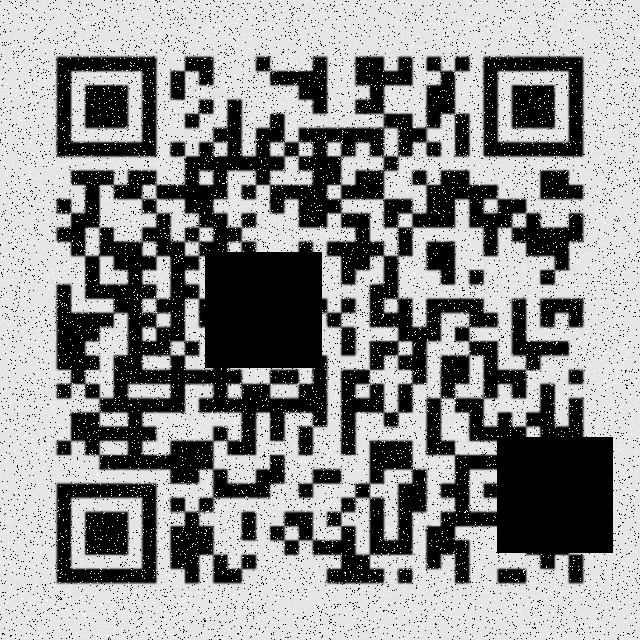QR_CODE: (43, 42, 598, 596)
